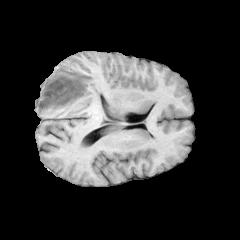glioma: (37, 66, 97, 112)
